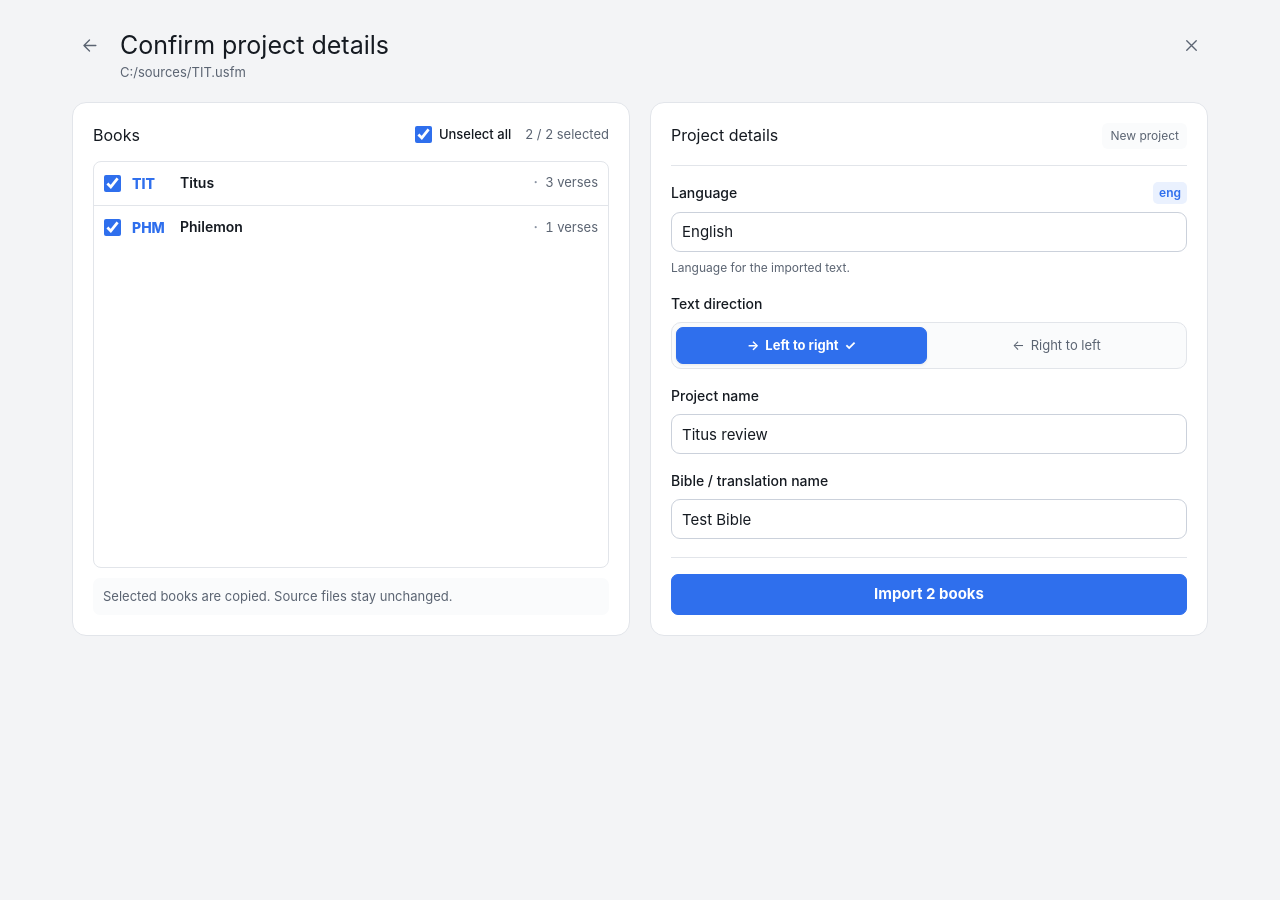
ImportScreen background import (#231) › refuses a partial import when an older engine ignores the selection
Expected: the heading "Confirm project details" is shown, [120,30,389,60]
Click the checkbox named "Import Titus" at point(112, 183), box [104,174,121,192]
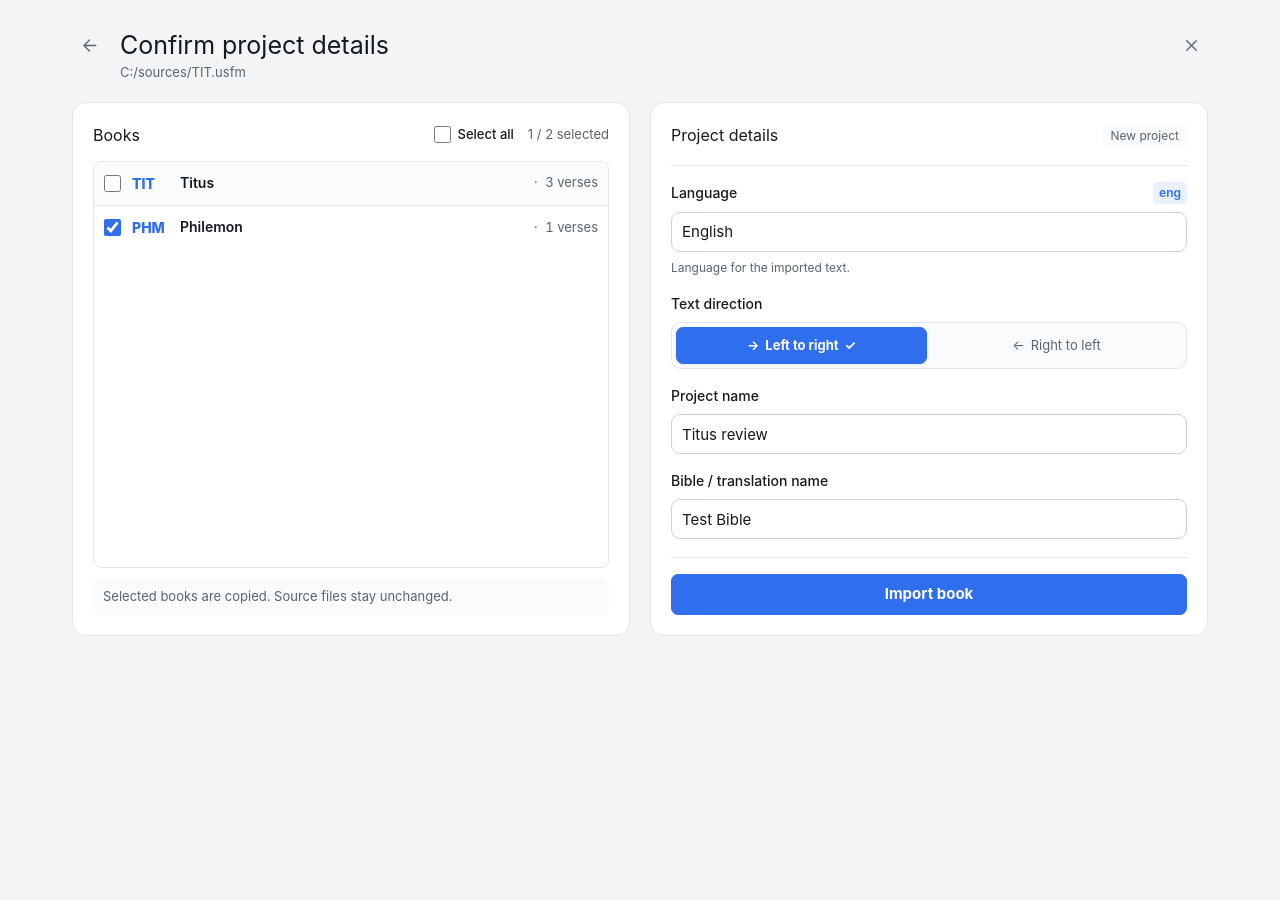
Click the button "Import book" at point(929, 594), box [671,574,1187,614]
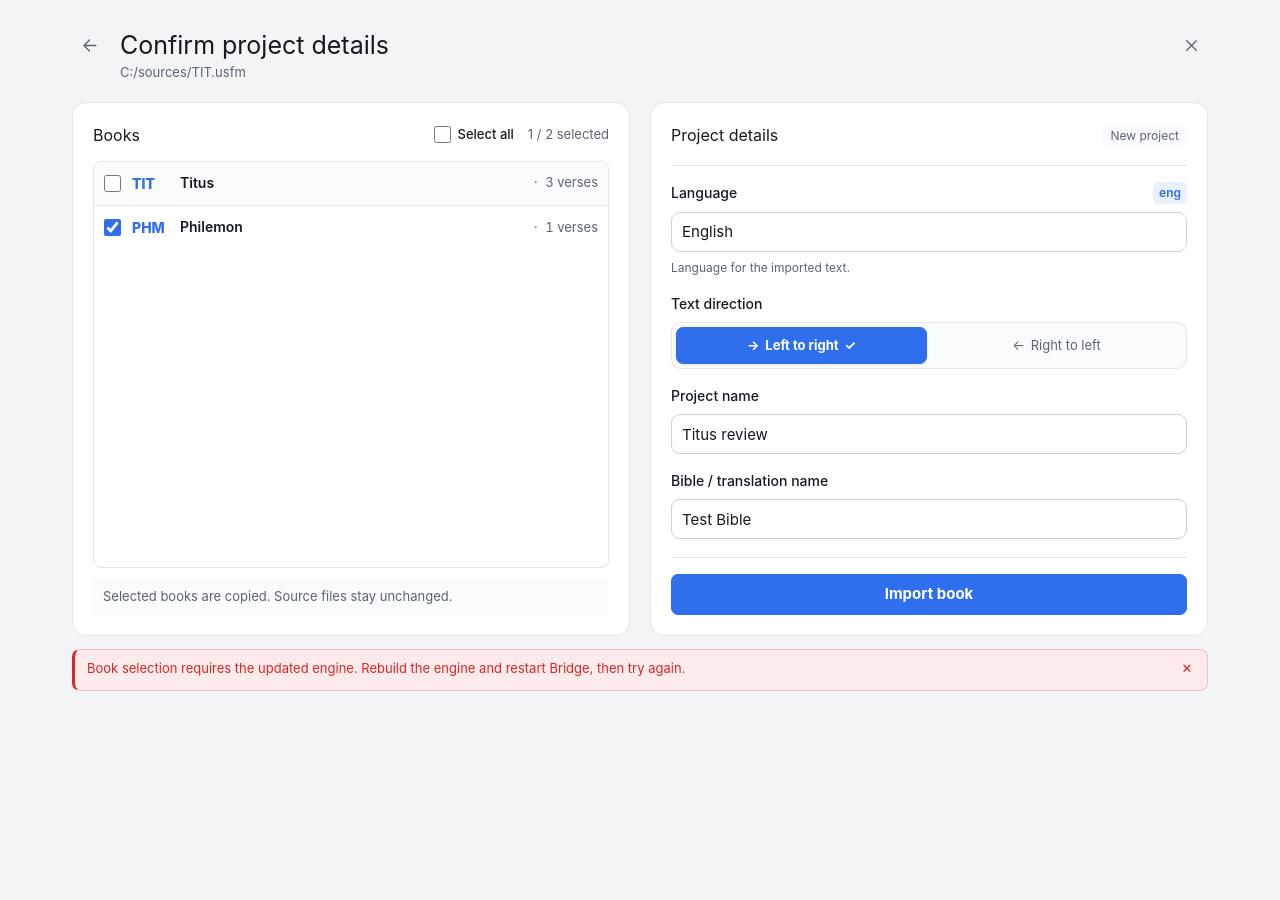
Expected: the text "Book selection requires the updated engine" is shown, [87,660,685,676]
